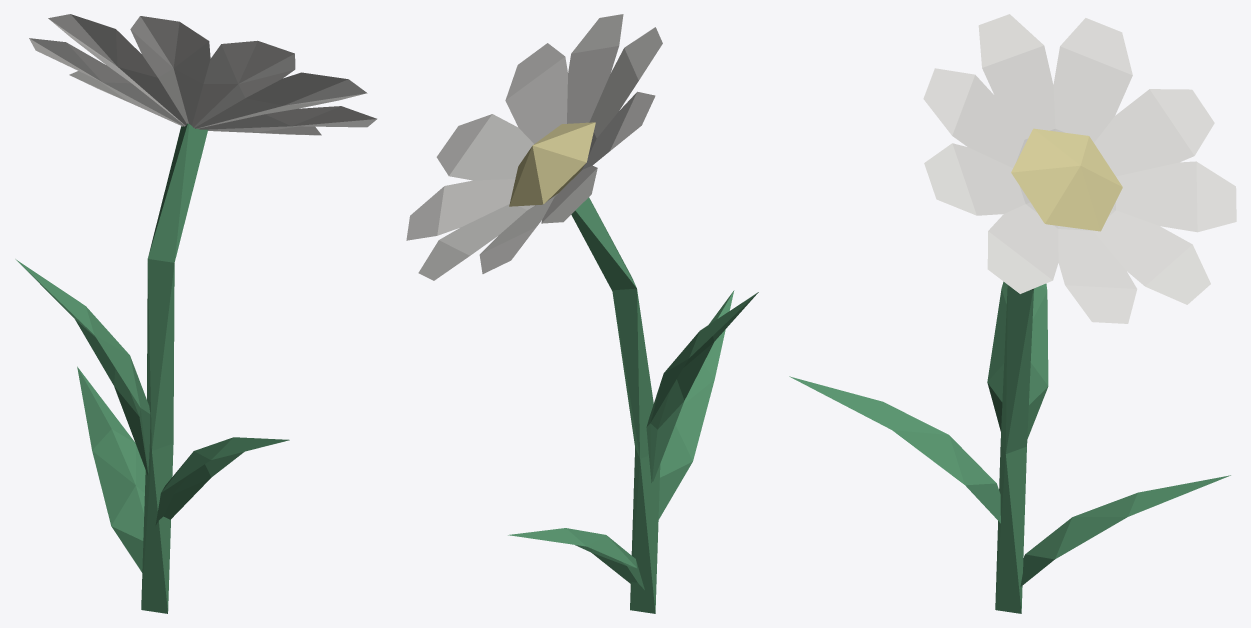
File: Prop_Flower_Daisy.glb
3 views of the same model, side by side, from view 1: azimuth 30°, elevation 25°; view 2: azimuth 150°, elevation 25°; view 3: azimuth 270°, elevation 25° (orthographic). The views are drawn at different scales.
Parts seen in each view (by area): view 1: Prop_Flower_Daisy_Merged; view 2: Prop_Flower_Daisy_Merged; view 3: Prop_Flower_Daisy_Merged.
Part boxes in pixels (left/top/right/bottom): Prop_Flower_Daisy_Merged: left=15, top=14, right=376, bottom=613; Prop_Flower_Daisy_Merged: left=406, top=14, right=758, bottom=613; Prop_Flower_Daisy_Merged: left=789, top=14, right=1236, bottom=613.
Size of the model in its own units: 0.3185 by 0.5257 by 0.3644.
